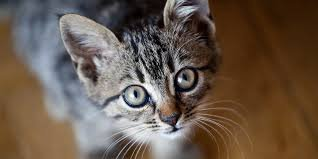cat: (51, 3, 234, 143)
